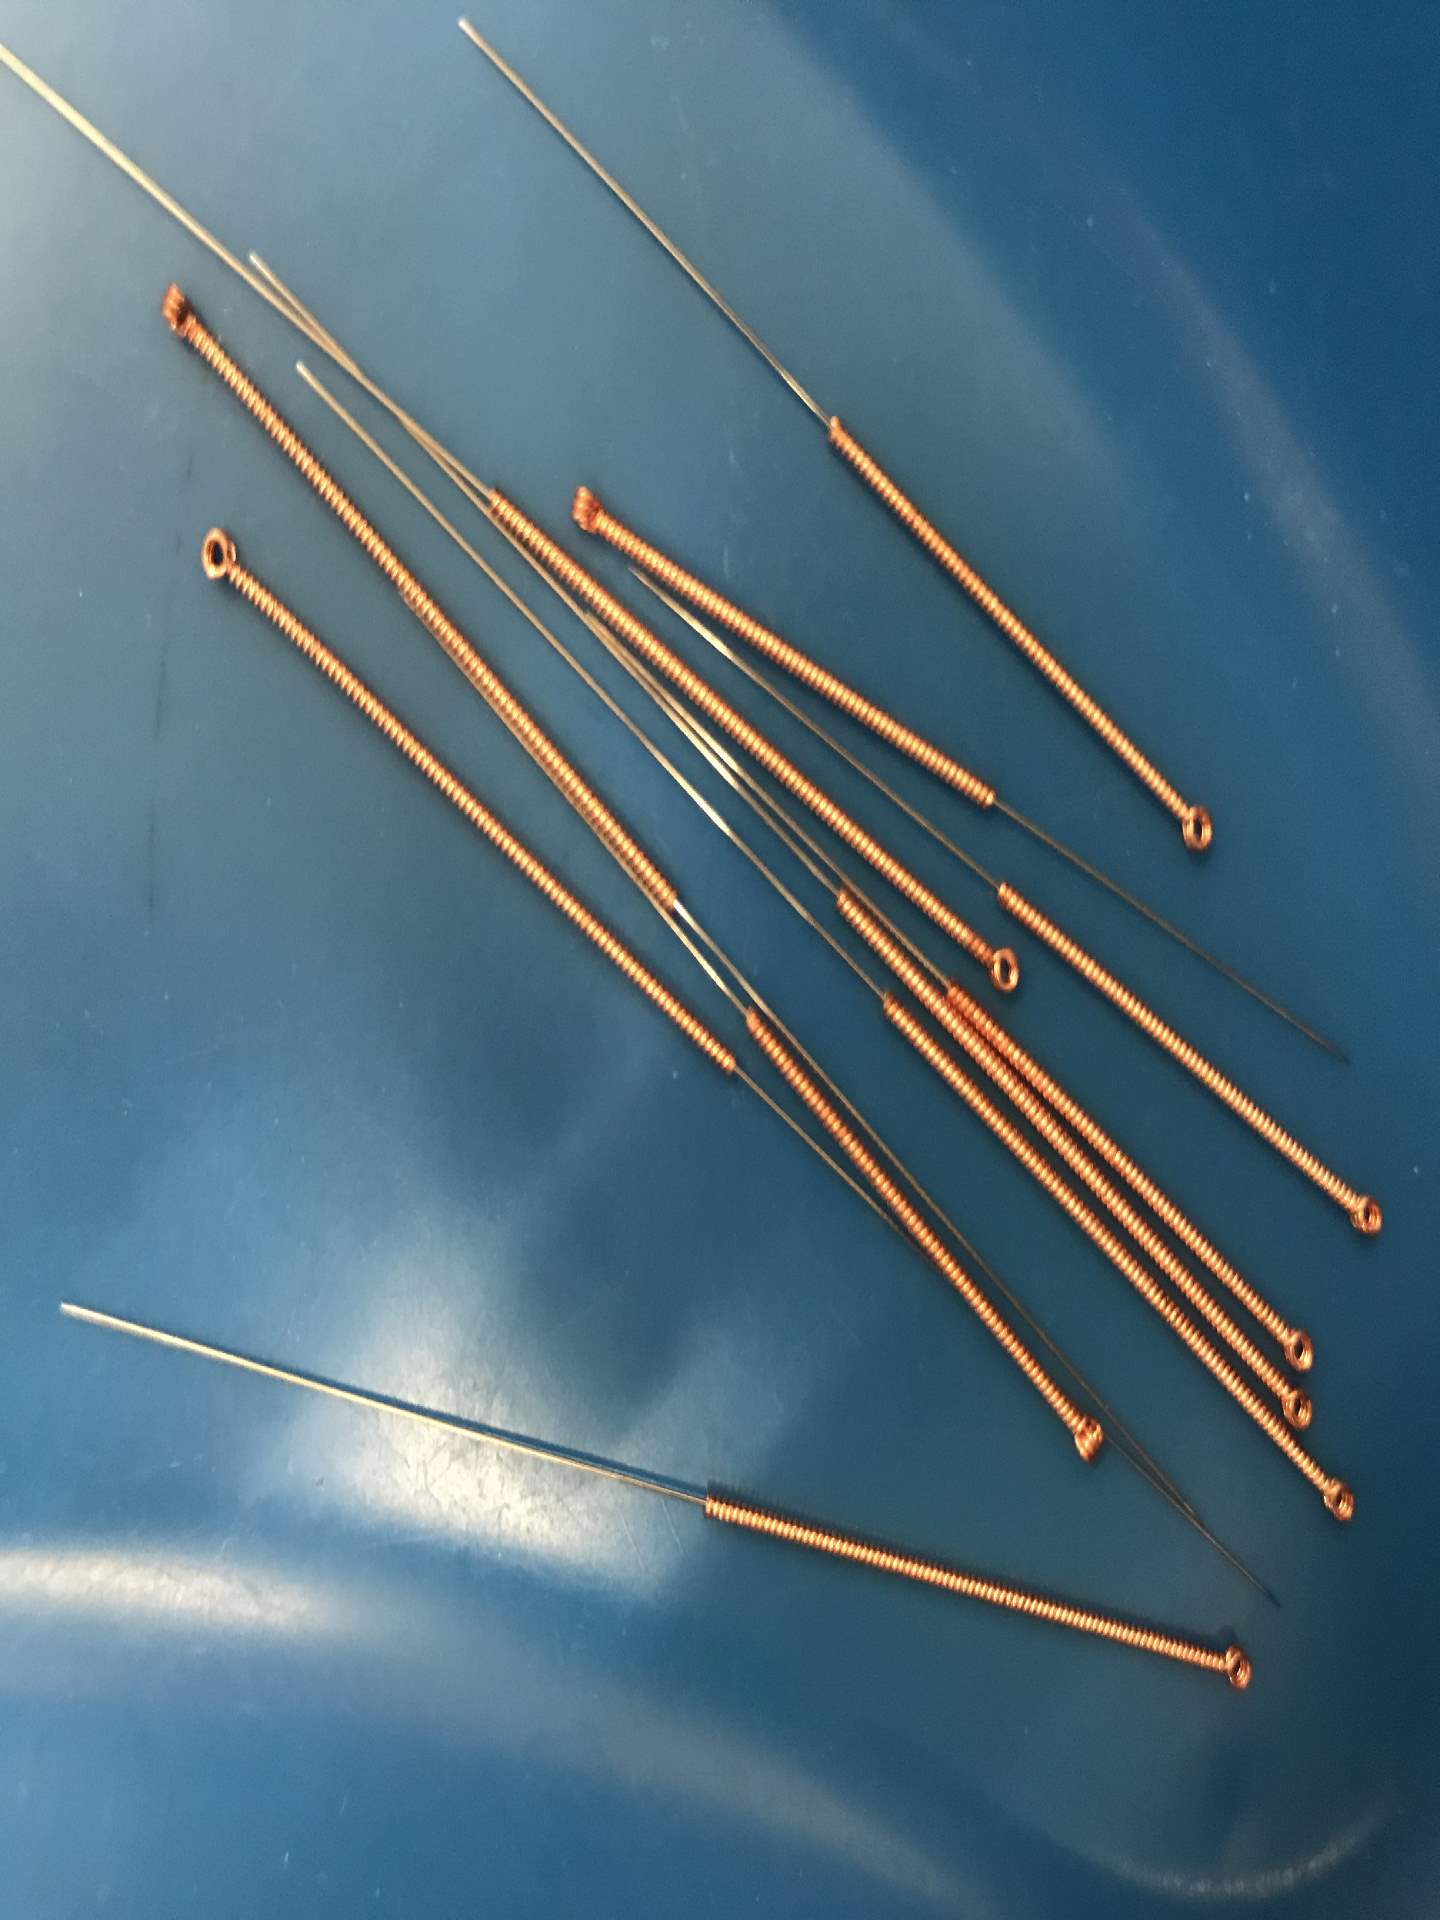needle: (175, 511, 259, 603), (138, 269, 213, 354), (1050, 1401, 1122, 1476), (1162, 785, 1224, 866), (1333, 1173, 1392, 1253), (551, 470, 616, 543), (1198, 1633, 1265, 1702), (1307, 1466, 1369, 1538), (967, 930, 1029, 999), (1269, 1312, 1331, 1382), (1274, 1374, 1328, 1436)
